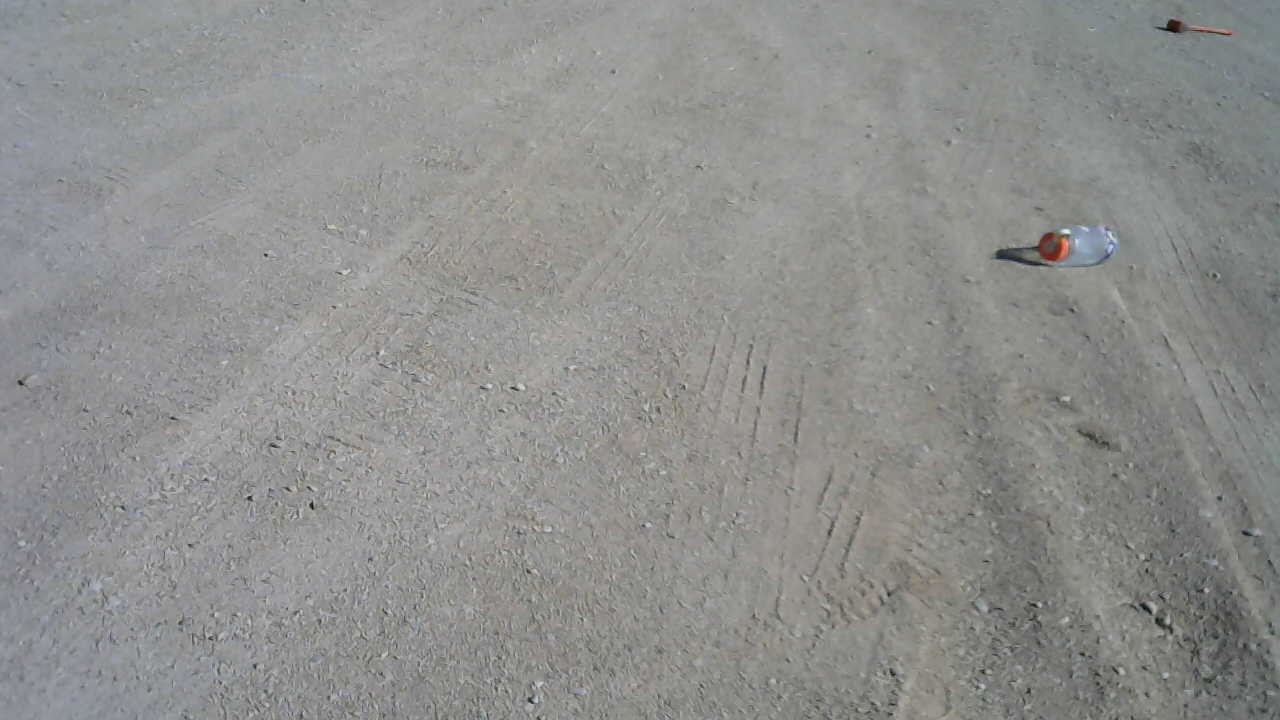bottle: (1031, 219, 1121, 269)
